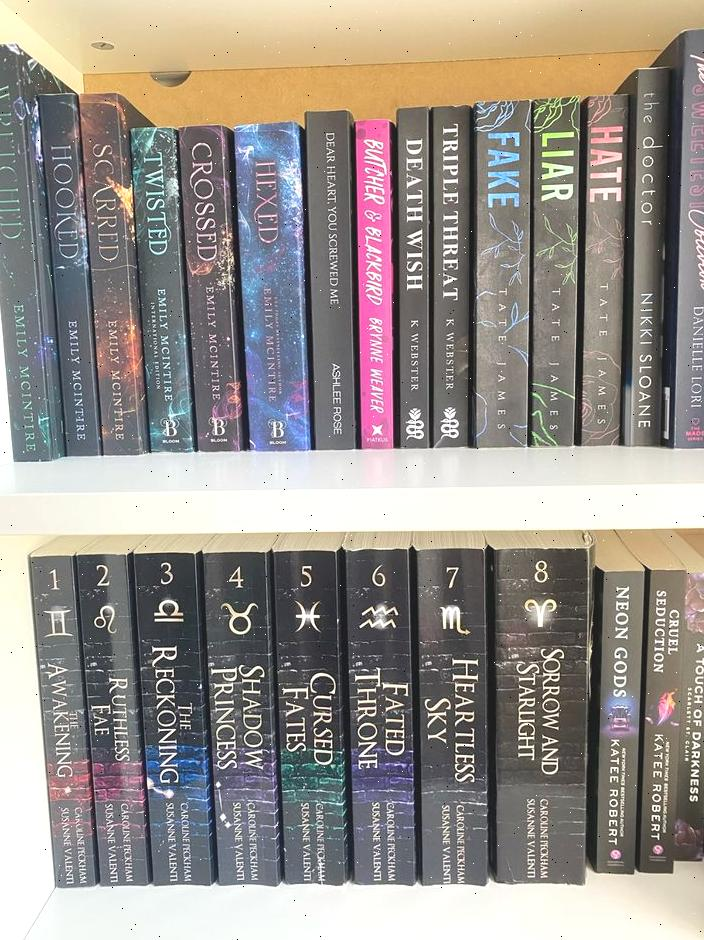book: (132, 539, 209, 884), (74, 541, 147, 885), (78, 99, 148, 453), (274, 539, 346, 882), (234, 122, 310, 446), (203, 540, 275, 882), (418, 535, 487, 882), (38, 98, 104, 456), (346, 537, 414, 882), (26, 562, 96, 890), (177, 127, 245, 447), (134, 130, 200, 451), (302, 113, 360, 444), (588, 537, 643, 875), (471, 102, 524, 444), (661, 32, 704, 442), (529, 99, 579, 443), (582, 93, 631, 444), (636, 543, 687, 872), (354, 119, 397, 445), (431, 106, 472, 445), (395, 108, 431, 444), (675, 547, 704, 860)
